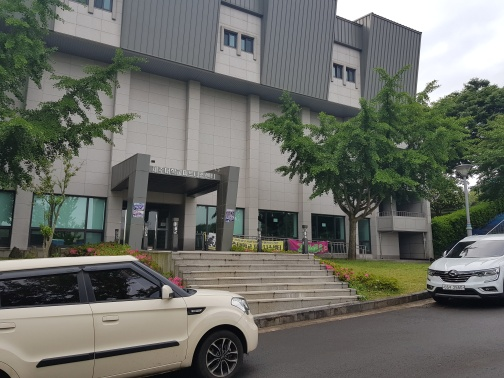Gym: (52, 2, 436, 261), (85, 146, 261, 253)
